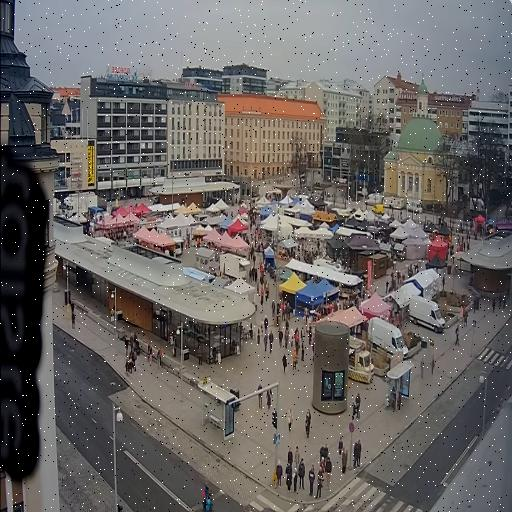delivery: (367, 317, 407, 359), (408, 297, 444, 332), (348, 336, 373, 383)
